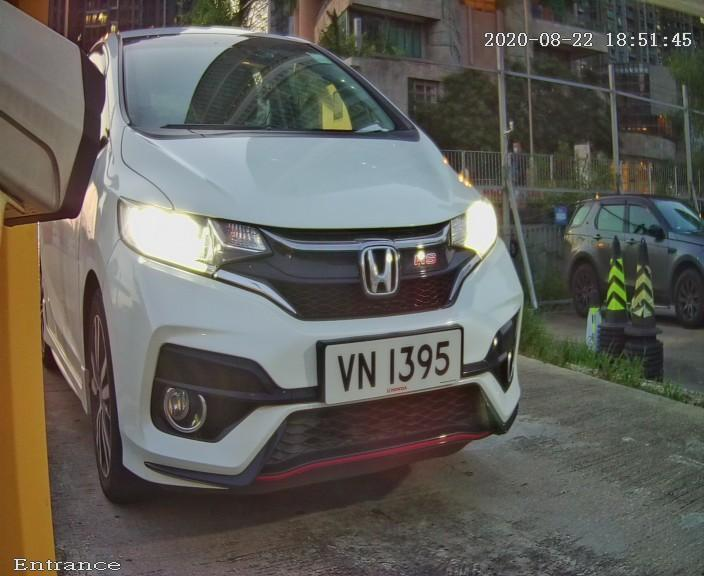Car: (32, 1, 588, 533)
License Plate: (286, 308, 508, 427)
